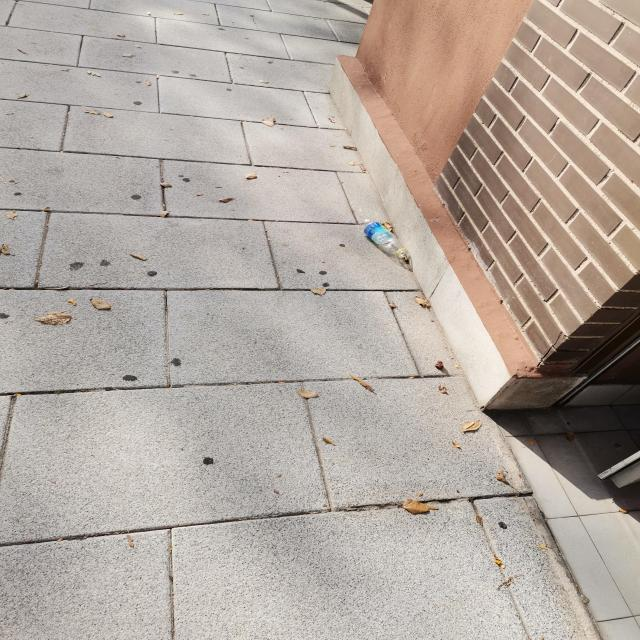litter: (362, 219, 410, 258)
